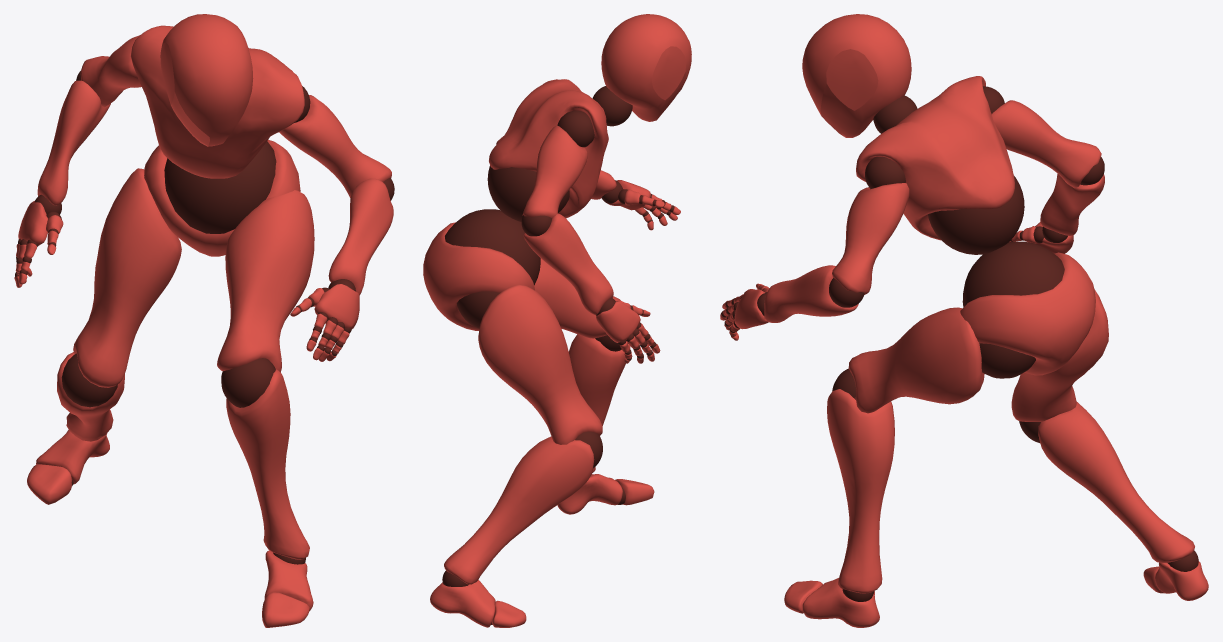
3 renders of one model, left to right at view 1: azimuth 30°, elevation 25°; view 2: azimuth 150°, elevation 25°; view 3: azimuth 270°, elevation 25°, orthographic. The views are drawn at different scales.
Visible parts, largest first — view 1: Beta_Surface, Beta_Joints; view 2: Beta_Surface, Beta_Joints; view 3: Beta_Surface, Beta_Joints.
Part boxes in pixels (x1,y1,x2,y2): Beta_Surface: (14,14,393,627); Beta_Joints: (15,71,394,564); Beta_Surface: (423,14,691,627); Beta_Joints: (442,86,674,624); Beta_Surface: (720,14,1208,627); Beta_Joints: (721,86,1198,601).
Size of the model in its own units: 0.6913 by 1.4 by 1.09.
